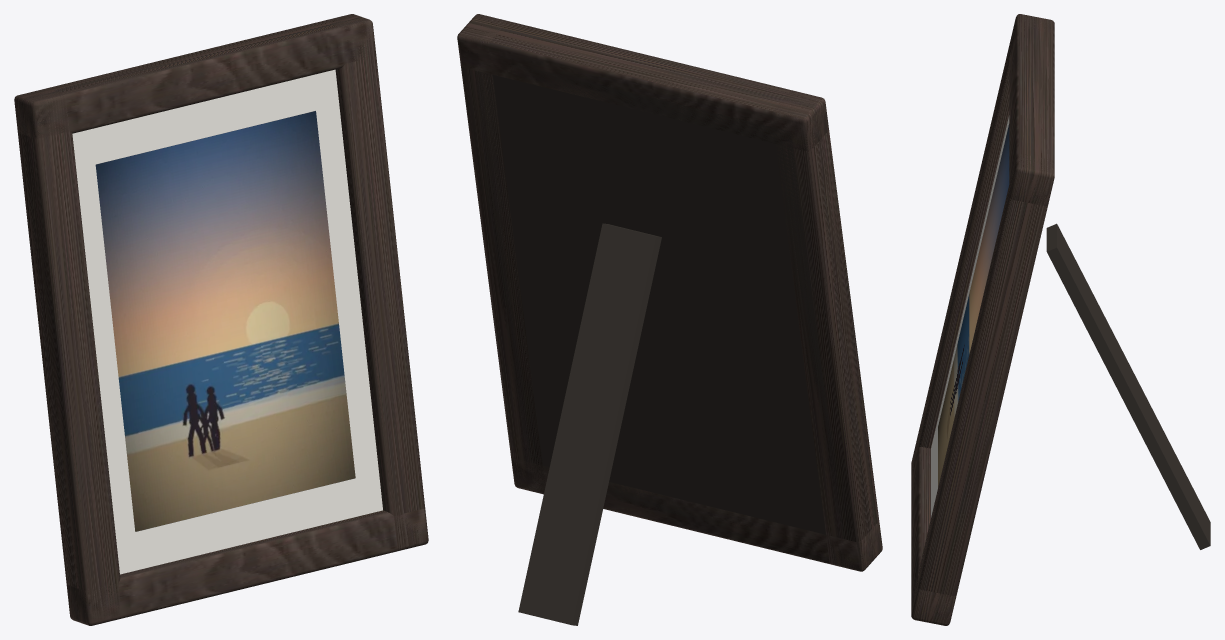
File: herodesk-office-photo-frame.glb
The picture shows the model from 3 angles, left to right: view 1: azimuth 30°, elevation 25°; view 2: azimuth 150°, elevation 25°; view 3: azimuth 270°, elevation 25°; orthographic projection. The views are drawn at different scales.
Visible parts, largest first — view 1: herodesk-office-photo-frame · mesh; view 2: herodesk-office-photo-frame · mesh; view 3: herodesk-office-photo-frame · mesh.
Part boxes in pixels (x1,y1,x2,y2): herodesk-office-photo-frame · mesh: [14, 14, 428, 625]; herodesk-office-photo-frame · mesh: [457, 14, 882, 625]; herodesk-office-photo-frame · mesh: [911, 14, 1210, 625].
Bounding box in the file's own units: 0.13 × 0.1784 × 0.1054.
Materials: 4 (2 with a texture image).
